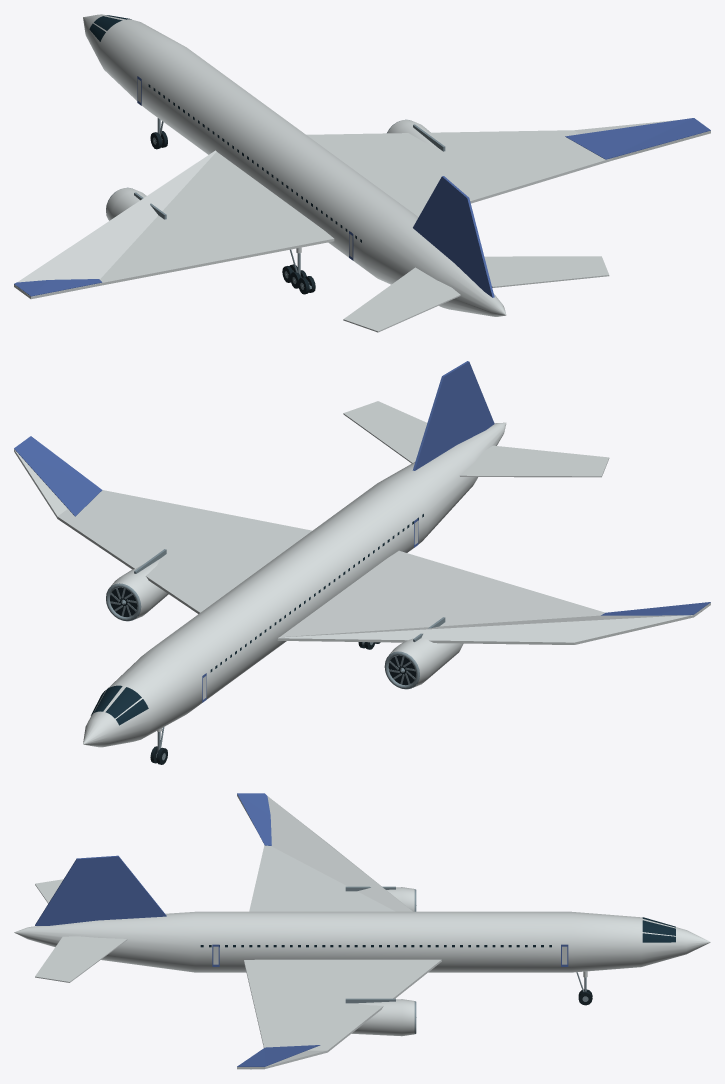
3 views of the same model, one above another, from view 1: azimuth 30°, elevation 25°; view 2: azimuth 150°, elevation 25°; view 3: azimuth 270°, elevation 25° (orthographic). The views are drawn at different scales.
Visible parts, largest first — view 1: 远星 W-350 original airliner, landing-gear; view 2: 远星 W-350 original airliner; view 3: 远星 W-350 original airliner.
Boxes of the visible parts, x1,y1,x2,y2 form: 远星 W-350 original airliner: (14, 14, 710, 332); landing-gear: (150, 118, 315, 294); 远星 W-350 original airliner: (14, 361, 710, 747); 远星 W-350 original airliner: (14, 793, 710, 1069).
Size of the model in its own units: 60.1 by 15.14 by 64.8.
